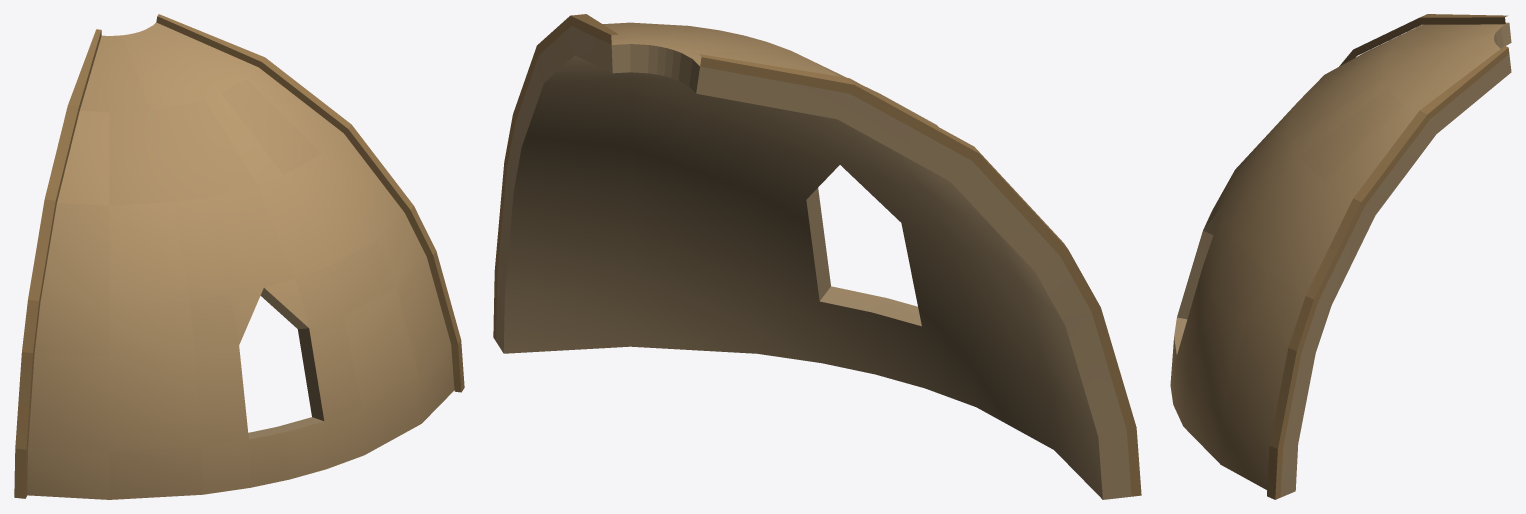
The model's file is dome.panel_4_window.sandstone.glb.
3 renders of one model, left to right at view 1: azimuth 30°, elevation 25°; view 2: azimuth 150°, elevation 25°; view 3: azimuth 270°, elevation 25°, orthographic. The views are drawn at different scales.
Parts seen in each view (by area): view 1: dome_panel_4_window_sandstone; view 2: dome_panel_4_window_sandstone; view 3: dome_panel_4_window_sandstone.
Part boxes in pixels (x1,y1,x2,y2): dome_panel_4_window_sandstone: (14, 14, 464, 499); dome_panel_4_window_sandstone: (493, 14, 1141, 499); dome_panel_4_window_sandstone: (1170, 14, 1511, 499).
Size of what is drawn, in the model's own units: 5.05 by 3.63 by 3.18.
